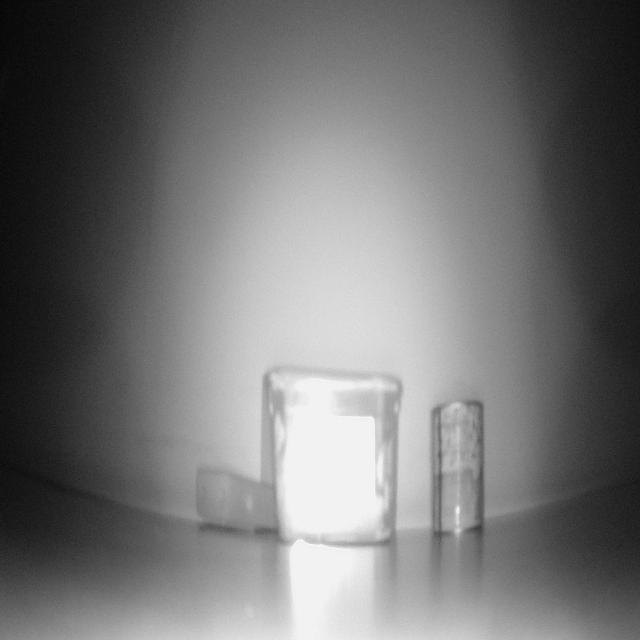targets: (271, 364, 400, 544), (194, 365, 282, 529), (431, 399, 482, 536)
